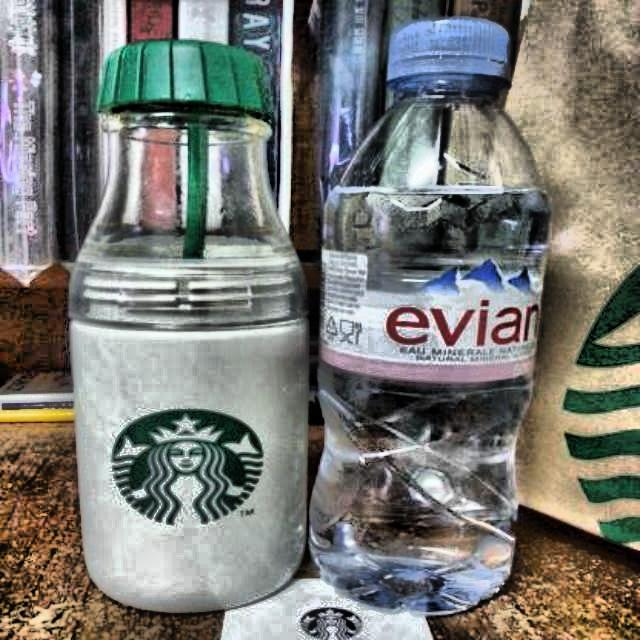Bottles: (311, 24, 554, 619)
